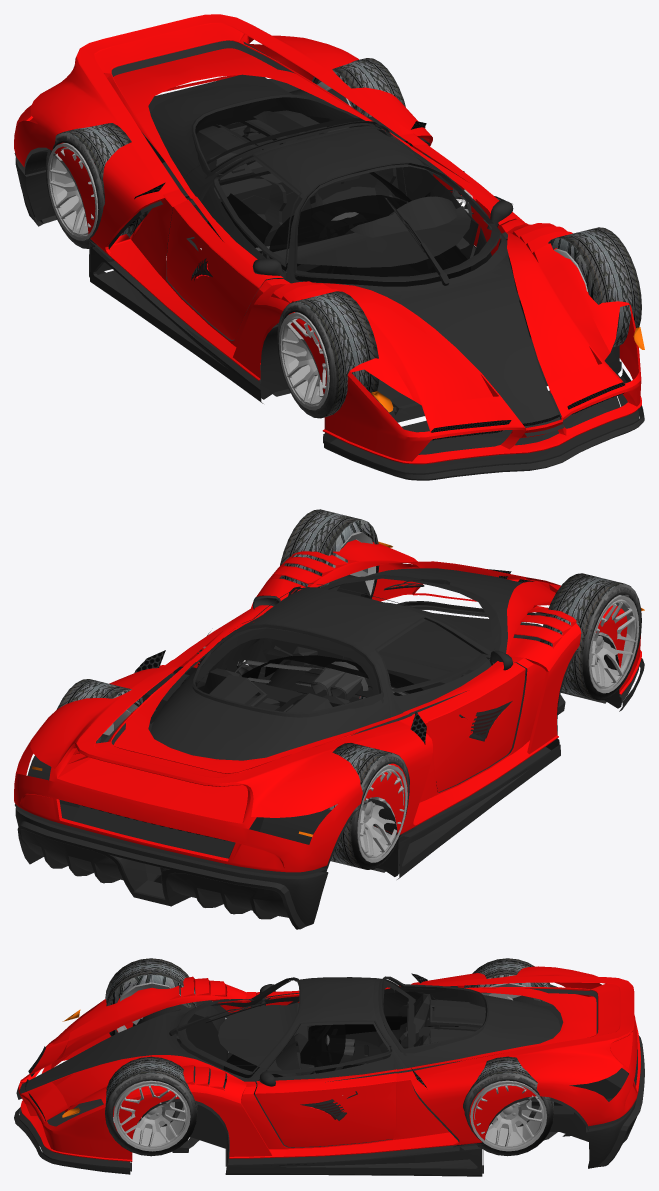
Rendered from sports_lite_comp.glb.
3 renders of one model, top to bottom at view 1: azimuth 30°, elevation 25°; view 2: azimuth 150°, elevation 25°; view 3: azimuth 270°, elevation 25°, orthographic. The views are drawn at different scales.
Parts seen in each view (by area): view 1: Body_Body_1_0, Body_Body_2_0, Body_Body_4_0, Wheel_RL_Tire_Treads_0, Body_Interior_0, Body_Glass_0, Wheel_RL_Rims_0, Wheel_RL_Tire_Sidewall_0, Body_Grills_0; view 2: Body_Body_1_0, Body_Body_2_0, Body_Body_4_0, Wheel_RL_Tire_Treads_0, Body_Interior_0, Wheel_RL_Rims_0, Wheel_RL_Tire_Sidewall_0, Body_Glass_0, Body_Roof_Back_0, Body_Exhaust_Pipes_0, Body_Grills_0; view 3: Body_Body_1_0, Body_Body_2_0, Body_Body_4_0, Body_Interior_0, Wheel_RL_Rims_0, Wheel_RL_Tire_Treads_0, Wheel_RL_Tire_Sidewall_0, Body_Glass_0, Wheel_RL_Rims_Disc_0, Body_Roof_Back_0, Body_TailLights_1_0, Body_Grills_0.
Boxes of the visible parts, box(x1,y1,x2,y2) form: Body_Body_1_0: box(14, 14, 641, 464); Body_Body_2_0: box(15, 40, 644, 480); Body_Body_4_0: box(14, 74, 639, 473); Wheel_RL_Tire_Treads_0: box(57, 58, 641, 418); Body_Interior_0: box(184, 118, 491, 328); Body_Glass_0: box(207, 172, 470, 286); Wheel_RL_Rims_0: box(47, 81, 587, 410); Wheel_RL_Tire_Sidewall_0: box(45, 132, 336, 417); Body_Grills_0: box(129, 121, 625, 440); Body_Body_1_0: box(14, 539, 641, 872); Body_Body_2_0: box(15, 563, 644, 929); Body_Body_4_0: box(15, 574, 639, 883); Wheel_RL_Tire_Treads_0: box(56, 509, 639, 869); Body_Interior_0: box(181, 602, 470, 706); Wheel_RL_Rims_0: box(113, 531, 639, 862); Wheel_RL_Tire_Sidewall_0: box(351, 584, 641, 869); Body_Glass_0: box(241, 655, 423, 695); Body_Roof_Back_0: box(266, 660, 409, 701); Body_Exhaust_Pipes_0: box(311, 668, 366, 700); Body_Grills_0: box(71, 569, 534, 840); Body_Body_1_0: box(18, 966, 640, 1161); Body_Body_2_0: box(14, 977, 644, 1176); Body_Body_4_0: box(19, 976, 637, 1173); Body_Interior_0: box(218, 989, 440, 1157); Wheel_RL_Rims_0: box(113, 982, 546, 1151); Wheel_RL_Tire_Treads_0: box(105, 958, 553, 1156); Wheel_RL_Tire_Sidewall_0: box(105, 1073, 553, 1155); Body_Glass_0: box(223, 1016, 432, 1093); Wheel_RL_Rims_Disc_0: box(132, 993, 531, 1128); Body_Roof_Back_0: box(282, 1037, 382, 1076); Body_TailLights_1_0: box(300, 1099, 346, 1120); Body_Grills_0: box(25, 973, 628, 1120).
Bounding box in the file's own units: 7982299 × 4070382 × 1.81e+07.
25 materials, 6 textured.
